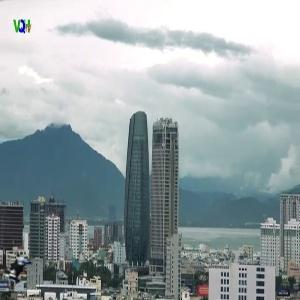drone: (1, 246, 53, 298)
